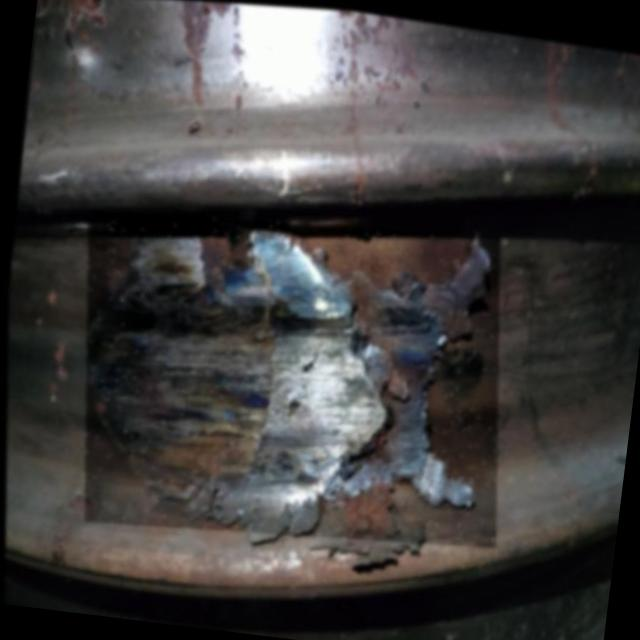Peeling: (48, 174, 534, 581)
